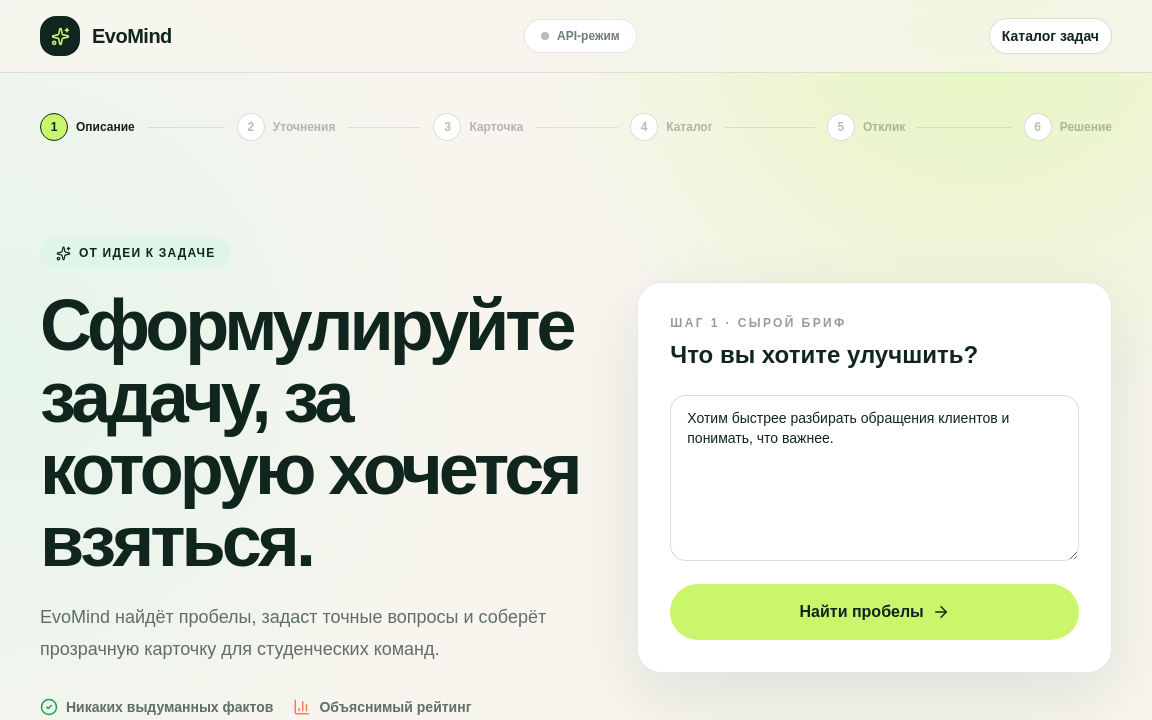
Scenario: DemoFlow › validates a weak brief
Replace the text in the text box named "Описание задачи" with "Коротко" at (875, 478), box [670,394,1079,560]
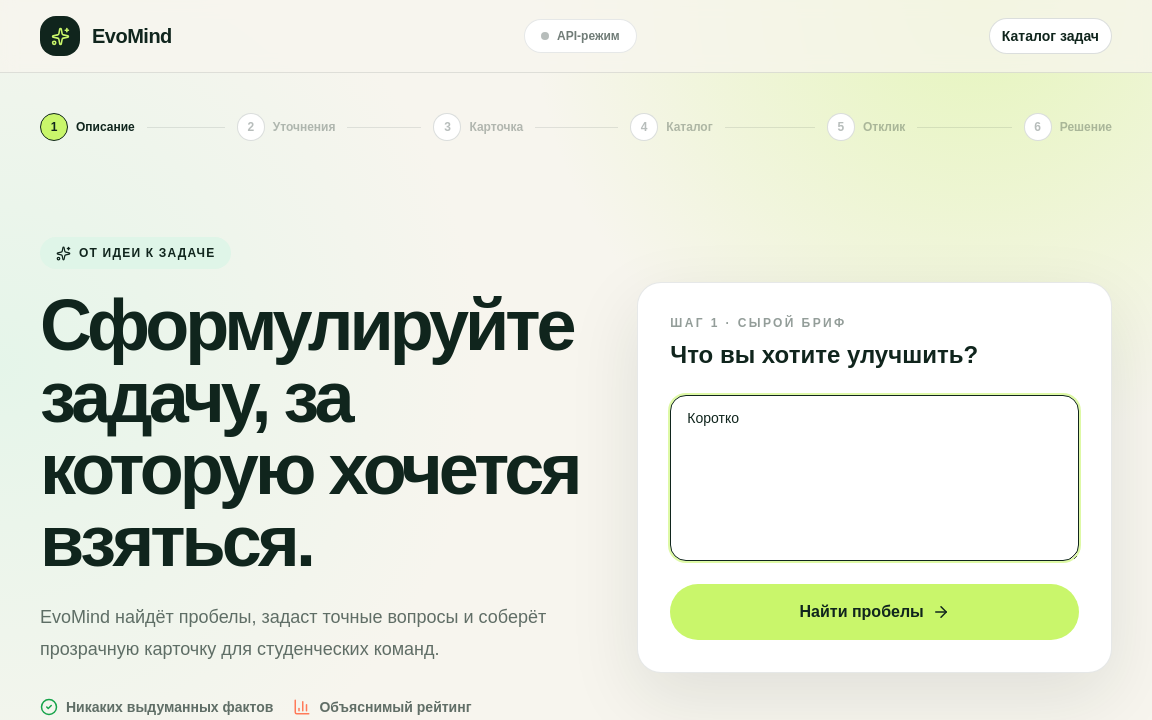
Click the button "Найти пробелы".
click(875, 612)  # box [670,584,1079,640]
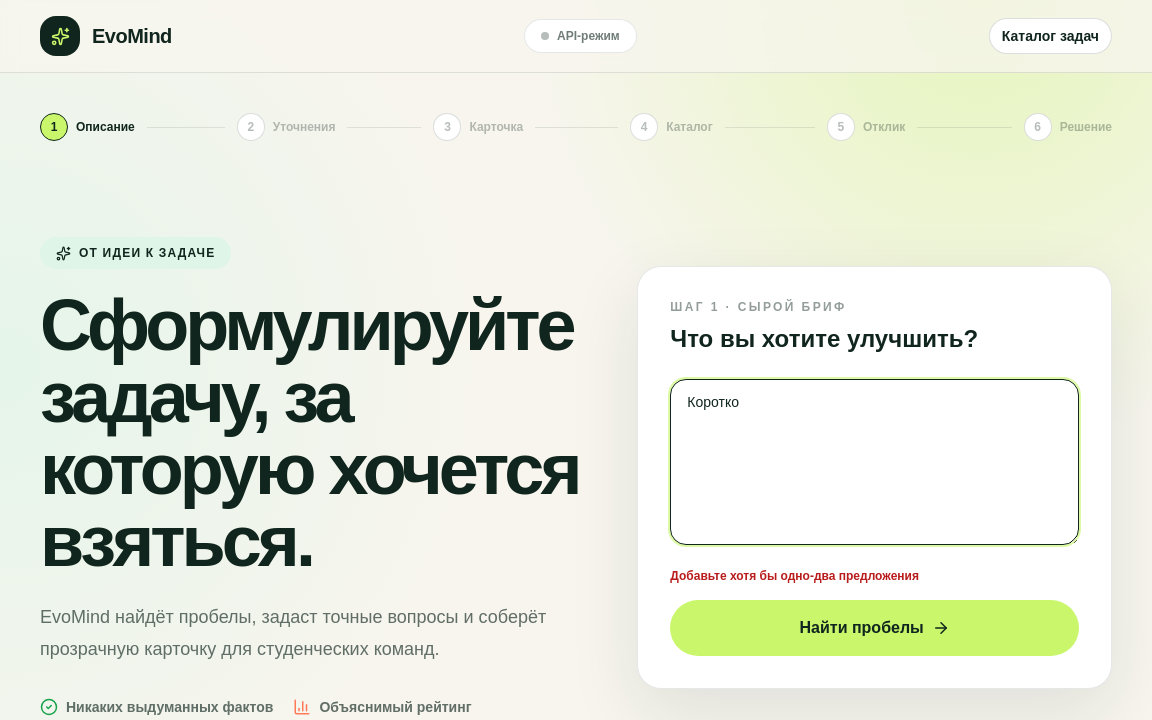
Now the text "Добавьте хотя бы одно-два предложения" is shown, box [670,568,919,582]
